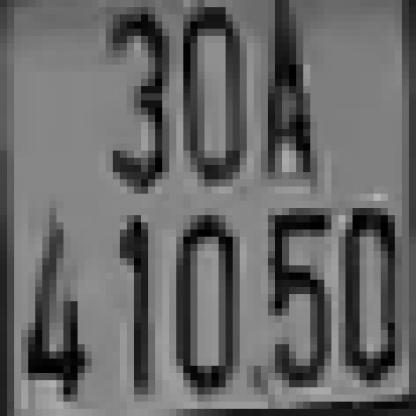0: (169, 7, 247, 187), (169, 215, 247, 387), (324, 208, 395, 373)
1: (106, 208, 169, 394)
3: (99, 14, 169, 194)
4: (21, 215, 99, 402)
5: (247, 208, 324, 380)
A: (247, 7, 317, 179)
